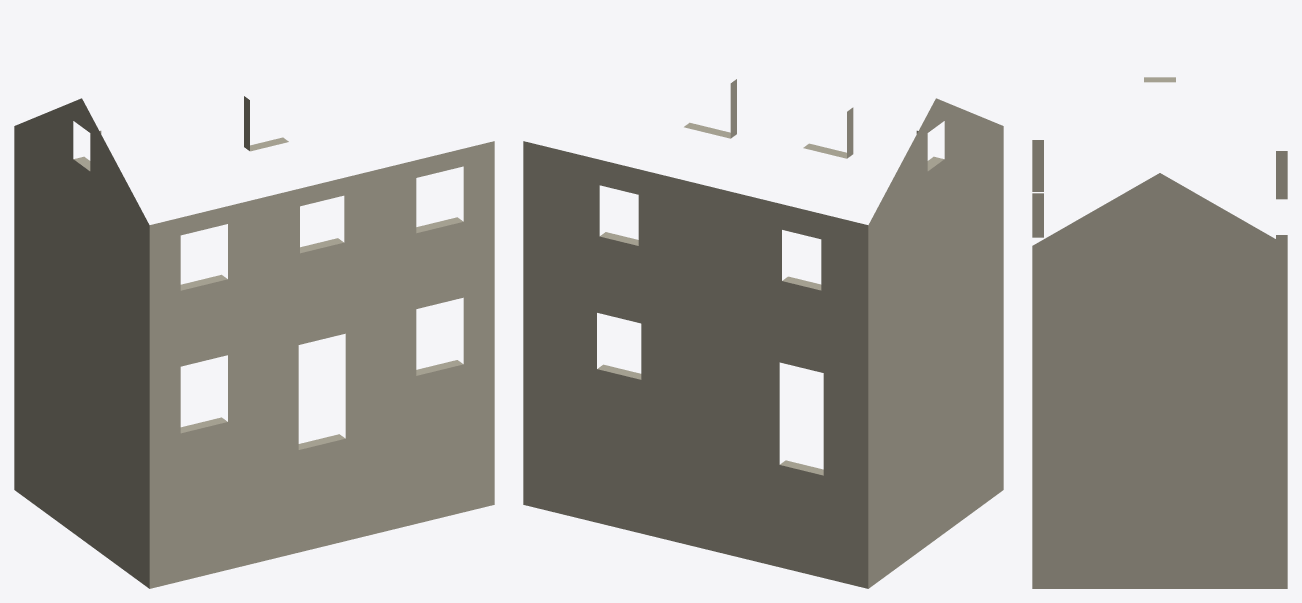
The model's file is SM_Bld_144_Render.glb.
The picture shows the model from 3 angles, left to right: view 1: azimuth 30°, elevation 25°; view 2: azimuth 150°, elevation 25°; view 3: azimuth 270°, elevation 25°; orthographic projection. The views are drawn at different scales.
Parts seen in each view (by area): view 1: SM_Bld_144_Render; view 2: SM_Bld_144_Render; view 3: SM_Bld_144_Render.
Part boxes in pixels (x1,y1,x2,y2): SM_Bld_144_Render: [14, 96, 494, 588]; SM_Bld_144_Render: [523, 79, 1003, 588]; SM_Bld_144_Render: [1032, 77, 1287, 588].
Size of the model in its own units: 7.05 by 8.61 by 4.79.
